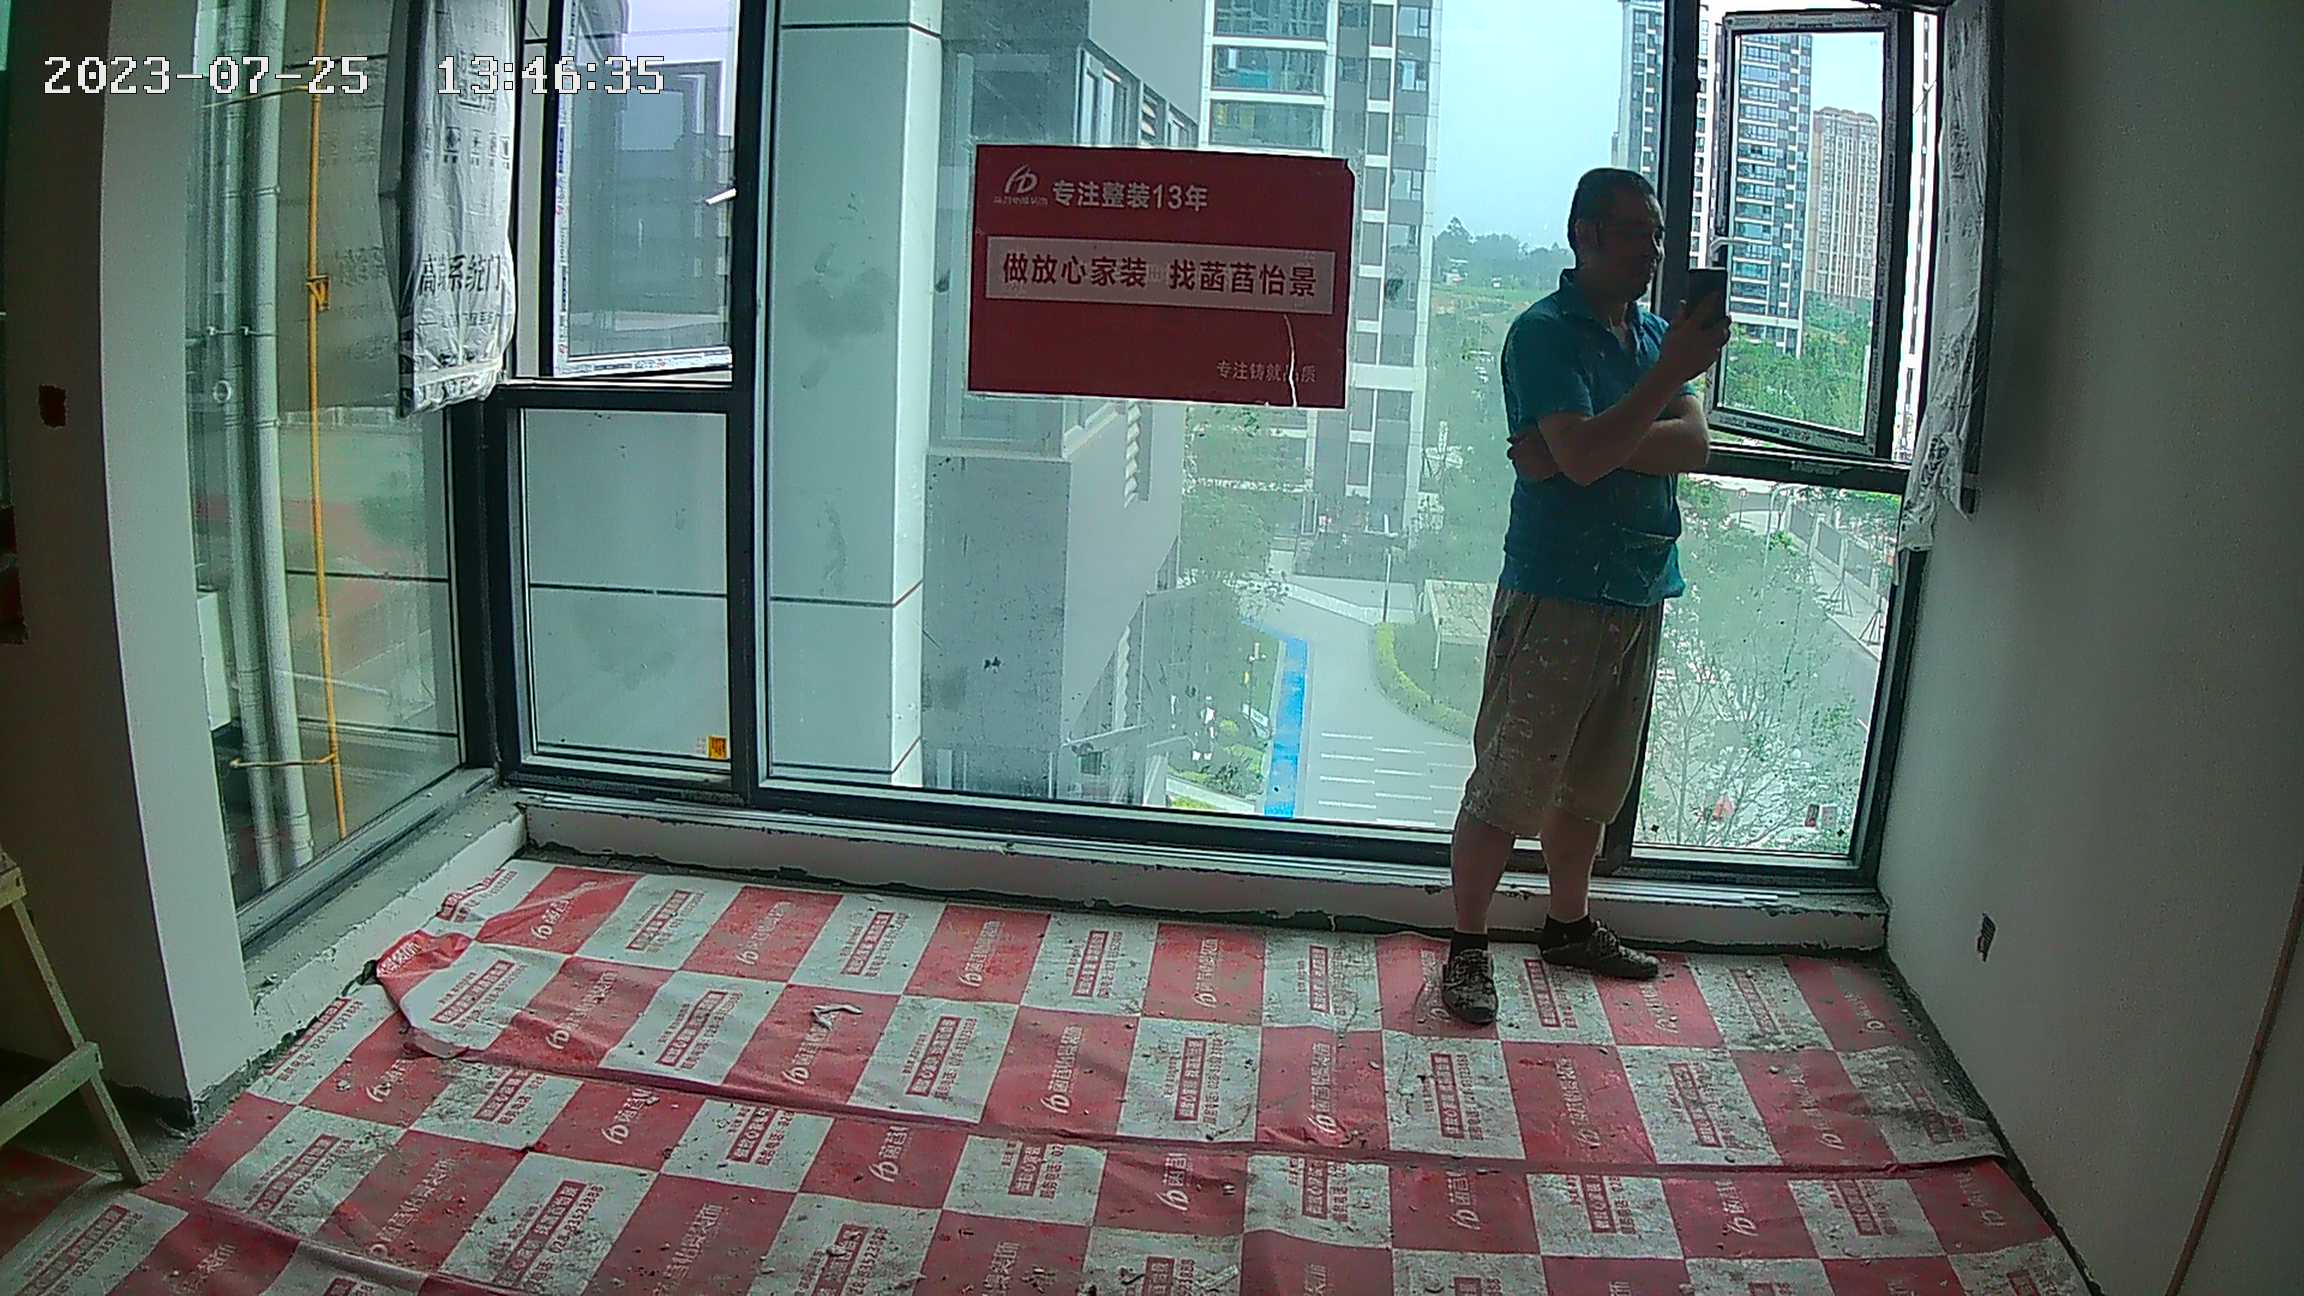people: (1439, 160, 1718, 1030)
window: (201, 6, 1956, 922)
